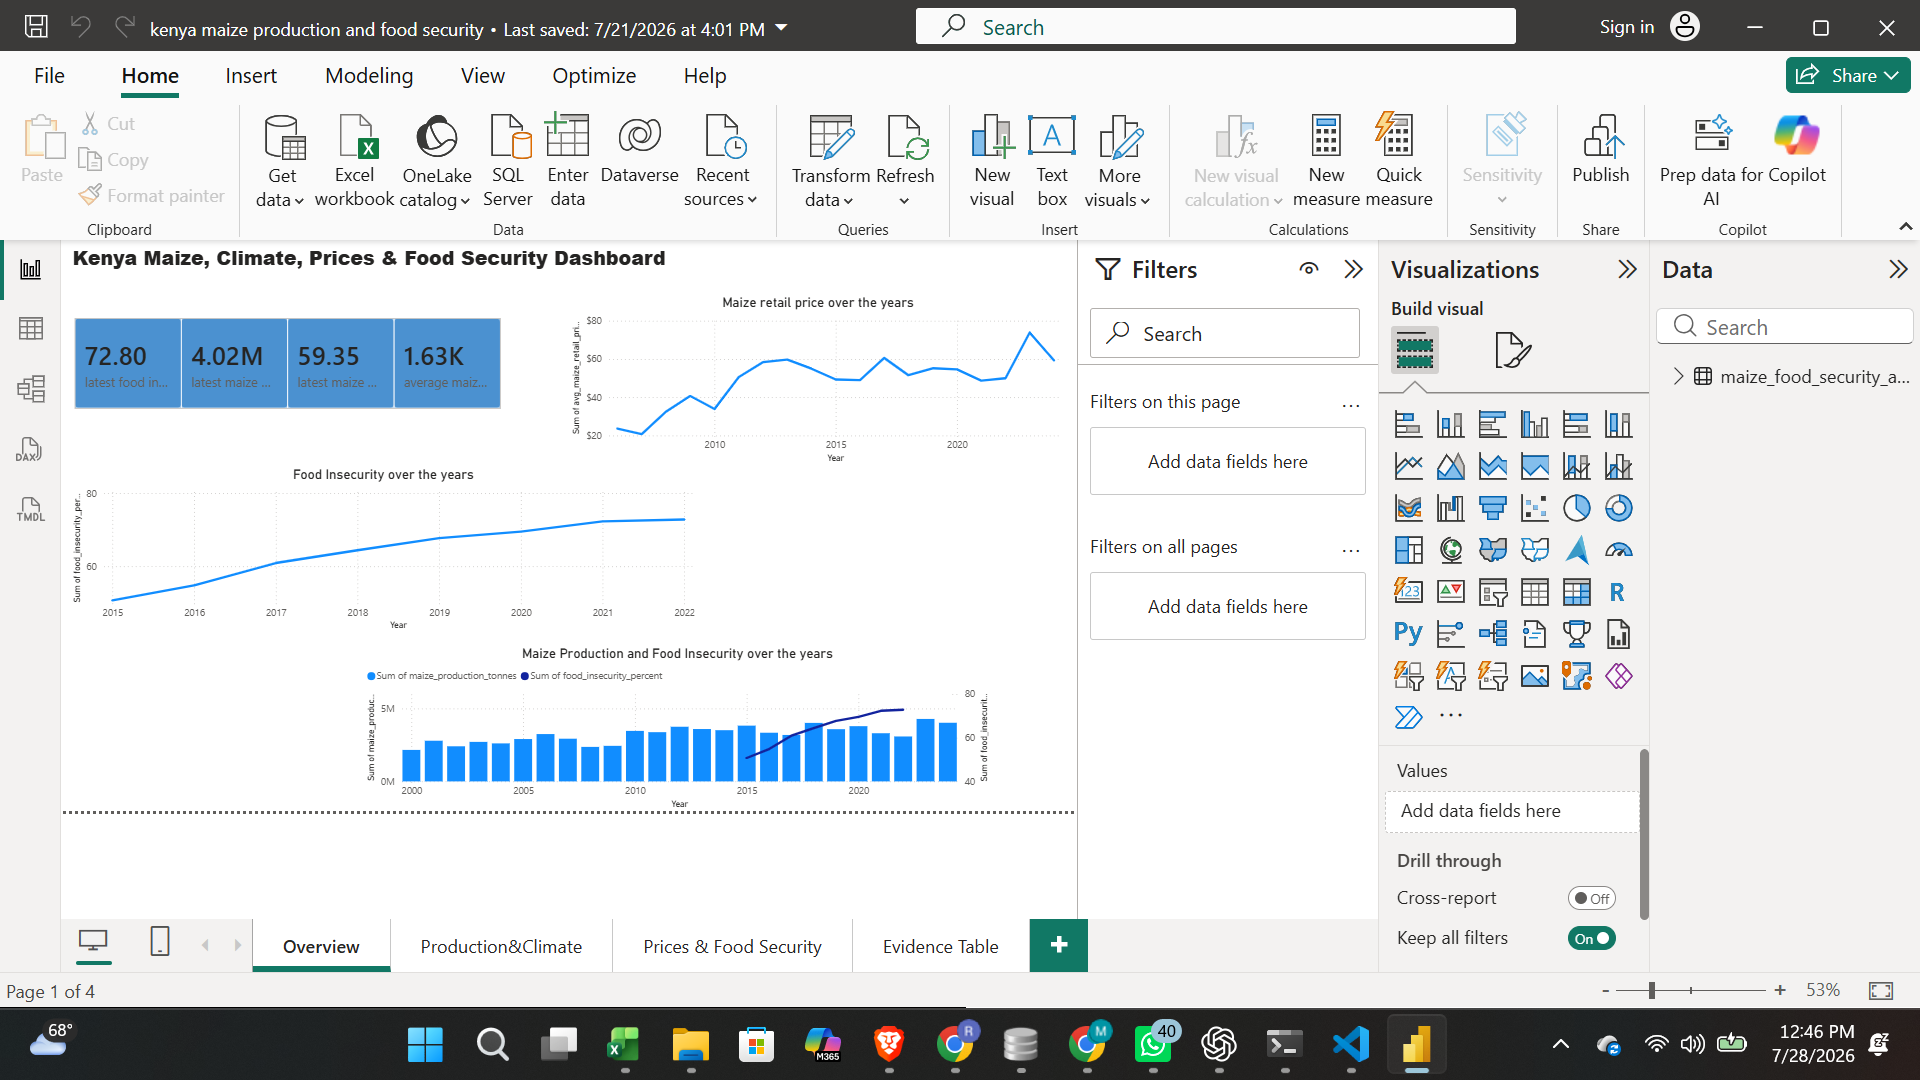

The page's visual inventory and layout, read from the dashboard file:
{"tool":"powerbi","page":{"name":"Overview","canvas":[1280,720],"ordinal":0},"visuals":[{"type":"textbox","box":[9.7,0,767.5,50.2],"z":0},{"type":"cardVisual","fields":{"Data":["maize_food_security_analysis.latest food insecurity %","maize_food_security_analysis.latest maize production","maize_food_security_analysis.latest maize price KES","maize_food_security_analysis.average maize yeild"]},"box":[0,81,574.8,149],"z":1000},{"type":"lineChart","title":"Food Insecurity over the years","fields":{"Y":["Sum(maize_food_security_analysis.food_insecurity_percent)"],"Category":["maize_food_security_analysis.Year"]},"box":[9.7,285,793.4,210.5],"z":2000},{"type":"lineClusteredColumnComboChart","title":"Maize Production and Food Insecurity over the years","fields":{"Y2":["Sum(maize_food_security_analysis.food_insecurity_percent)"],"Category":["maize_food_security_analysis.Year"],"Y":["Sum(maize_food_security_analysis.maize_production_tonnes)"]},"box":[380.5,510.1,793.4,210.5],"z":3000},{"type":"lineChart","title":"Maize retail price over the years","fields":{"Category":["maize_food_security_analysis.Year"],"Y":["Sum(maize_food_security_analysis.avg_maize_retail_price_kes)"]},"box":[639.6,68,629.9,217],"z":4000}]}

Visuals, with their boxes on the page's 1280x720 design canvas (x1, y1, x2, y2). These are canvas units, not pixel positions in the 1920x1080 screenshot, which may show the page scaled, cropped or inside an application window:
textbox: <box>10,0,777,50</box>
cardVisual - maize_food_security_analysis.latest food insecurity % x maize_food_security_analysis.latest maize production: <box>0,81,575,230</box>
"Food Insecurity over the years" lineChart: <box>10,285,803,496</box>
"Maize Production and Food Insecurity over the years" lineClusteredColumnComboChart: <box>380,510,1174,721</box>
"Maize retail price over the years" lineChart: <box>640,68,1270,285</box>
